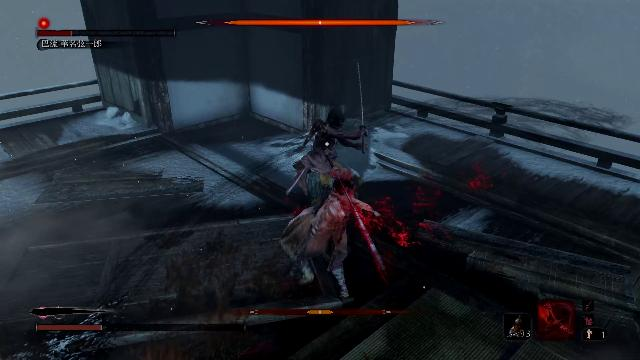sk: (277, 165, 373, 303)
